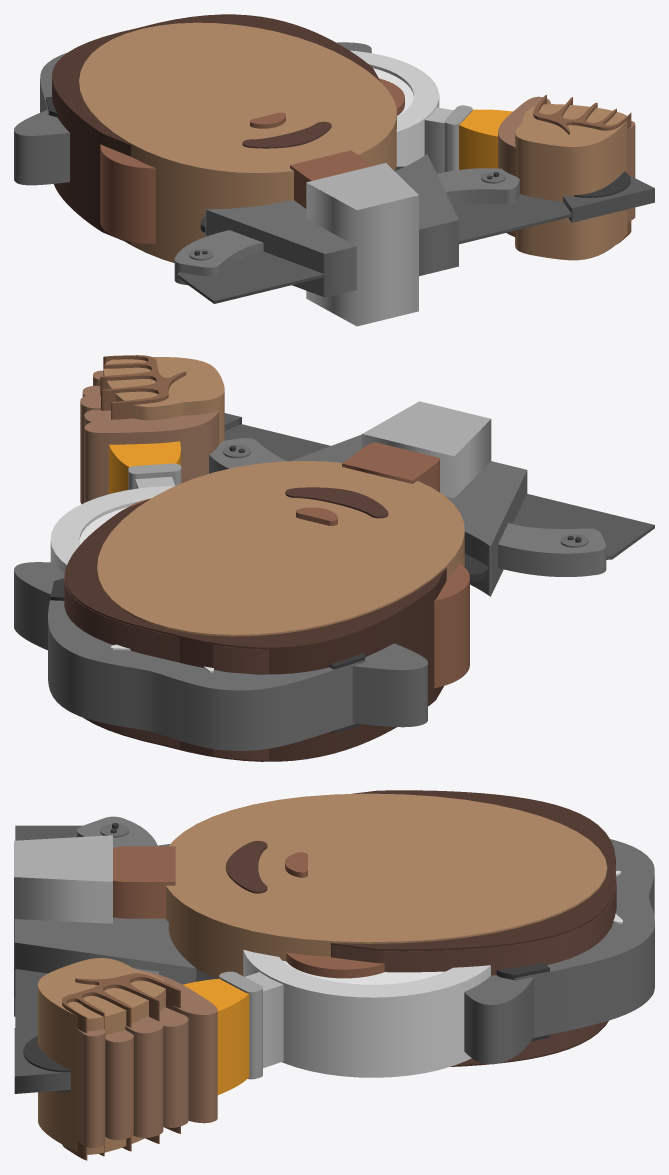
Rendered from emoji_u1f575_1f3fd_200d_2642.glb.
The picture shows the model from 3 angles, top to bottom: view 1: azimuth 30°, elevation 25°; view 2: azimuth 150°, elevation 25°; view 3: azimuth 270°, elevation 25°; orthographic projection. The views are drawn at different scales.
Parts seen in each view (by area): view 1: emoji_u1f575_1f3fd_200d_2642; view 2: emoji_u1f575_1f3fd_200d_2642; view 3: emoji_u1f575_1f3fd_200d_2642.
Part boxes in pixels (left/top/right/bottom): emoji_u1f575_1f3fd_200d_2642: left=14, top=14, right=654, bottom=326; emoji_u1f575_1f3fd_200d_2642: left=14, top=355, right=654, bottom=761; emoji_u1f575_1f3fd_200d_2642: left=14, top=790, right=654, bottom=1160.
Bounding box in the file's own units: 0.0326 × 0.0082 × 0.0333.
